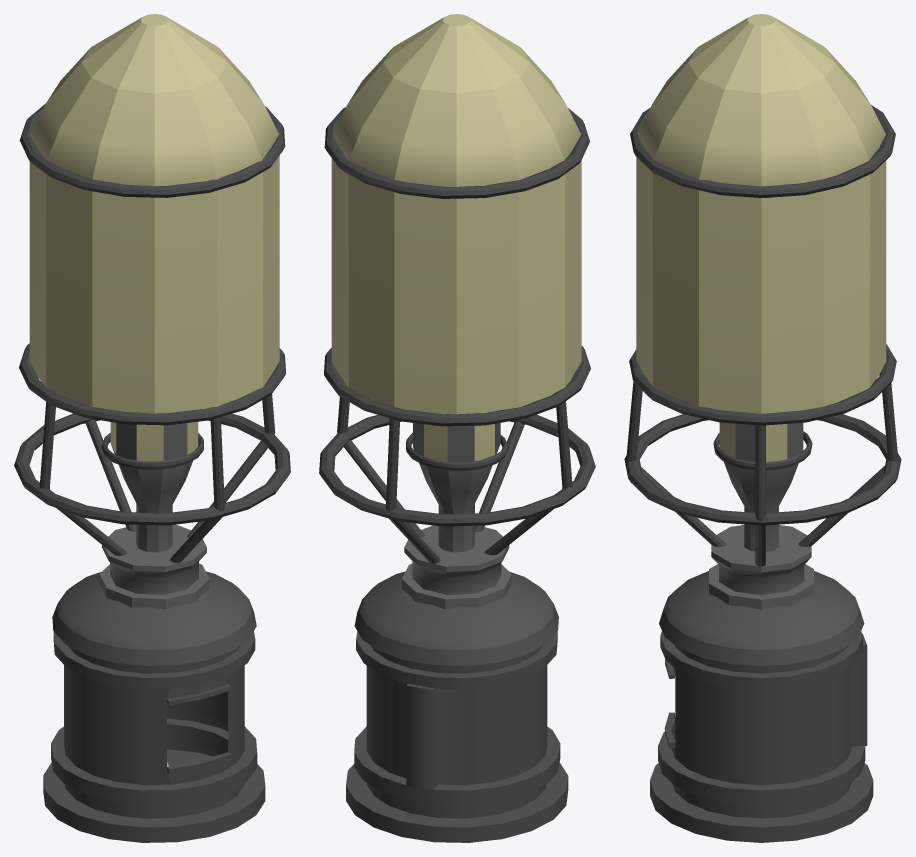
File: Lampe.fbx
3 renders of one model, left to right at view 1: azimuth 30°, elevation 25°; view 2: azimuth 150°, elevation 25°; view 3: azimuth 270°, elevation 25°, orthographic.
Parts seen in each view (by area): view 1: polySurface157; view 2: polySurface157; view 3: polySurface157.
Boxes of the visible parts, bbox=[...] form: polySurface157: bbox=[14, 14, 290, 842]; polySurface157: bbox=[319, 14, 595, 842]; polySurface157: bbox=[624, 14, 901, 842].
Size of the model in its own units: 103 by 318 by 103.
